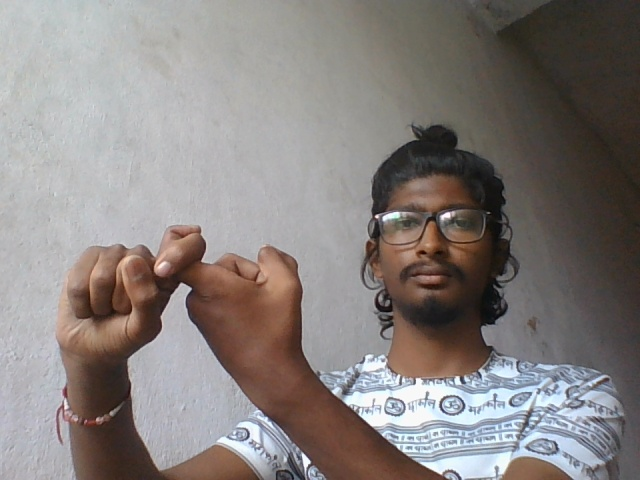ILoveYou: (53, 220, 313, 368)
